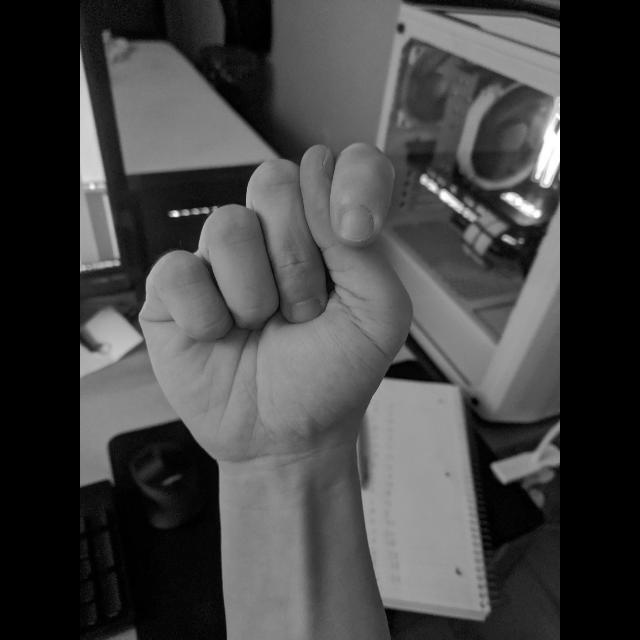T: (134, 135, 422, 472)
